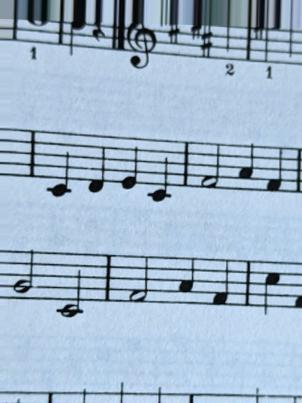note: (42, 127, 76, 204), (145, 134, 177, 205), (84, 129, 109, 196), (208, 255, 234, 312), (262, 142, 288, 198), (174, 251, 199, 309), (261, 256, 284, 317), (233, 140, 257, 198), (120, 134, 141, 193)
